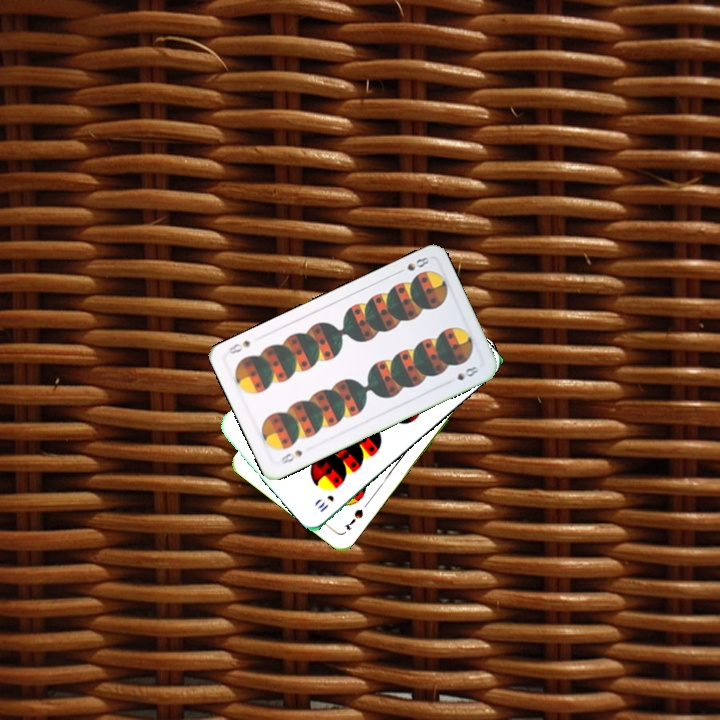S10: (313, 491, 337, 515)
S7: (340, 505, 366, 533)
S8: (393, 253, 432, 276), (275, 446, 305, 467)
